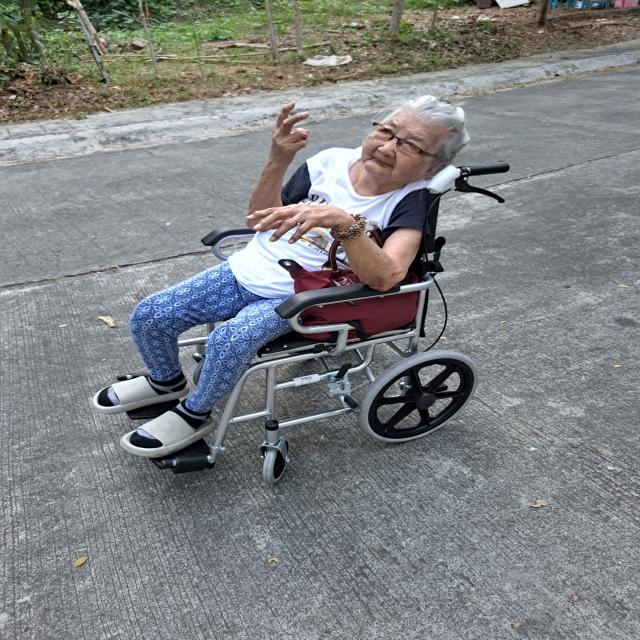wheelchairs: (116, 162, 510, 482)
